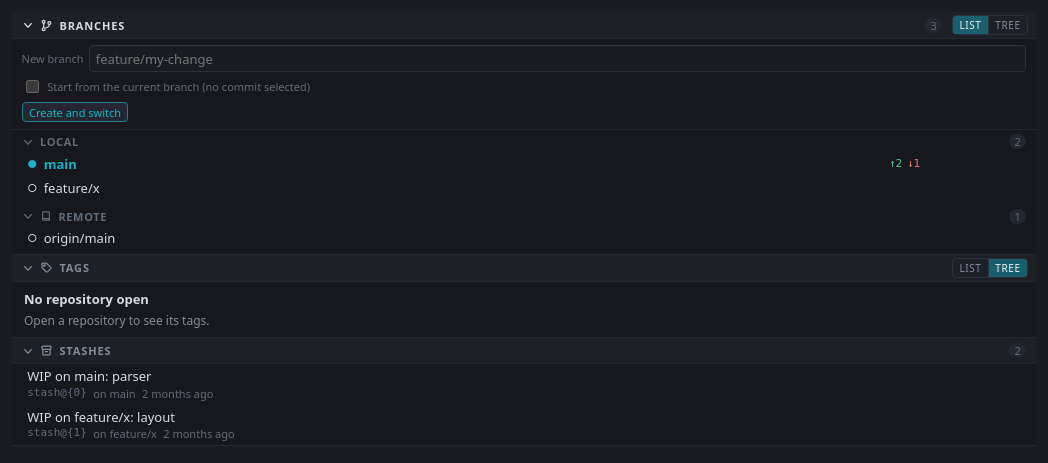
it: collapsing the sections › keeps the count on a collapsed header, so the section still says how much it holds
Click the button "Stashes 2" at (85, 351), box top-left (12, 338), bottom-right (1036, 364)
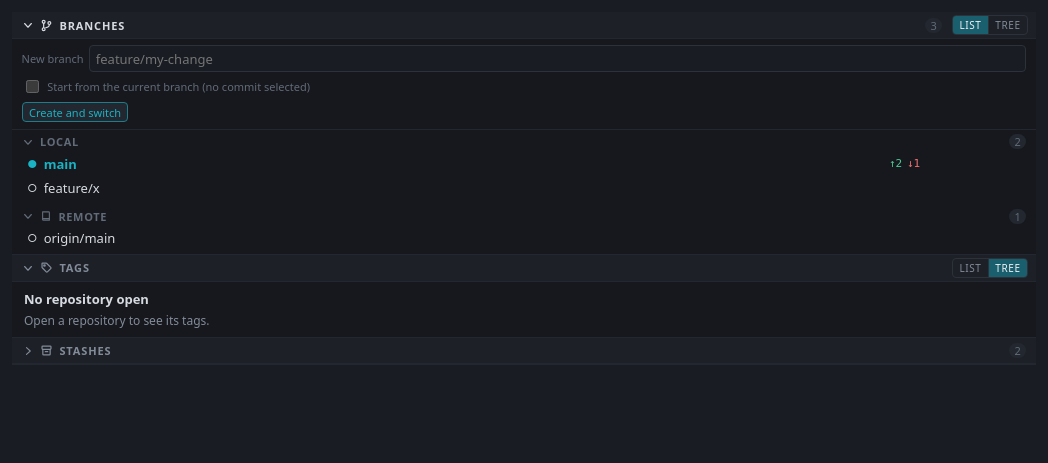
Expected: the button "WIP on main: parser" is gone
